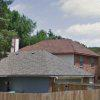Chimney: (7, 30, 18, 59)
